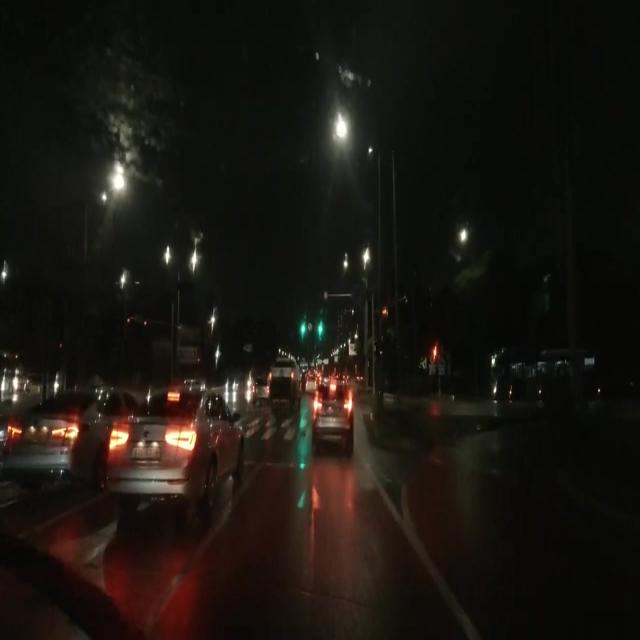Car: (108, 385, 241, 510), (5, 395, 100, 484), (309, 383, 351, 441)
